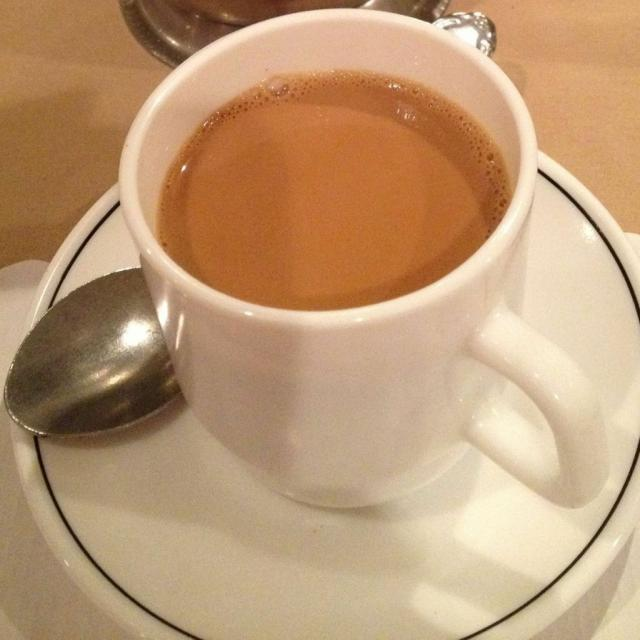Chai: (168, 66, 502, 309)
